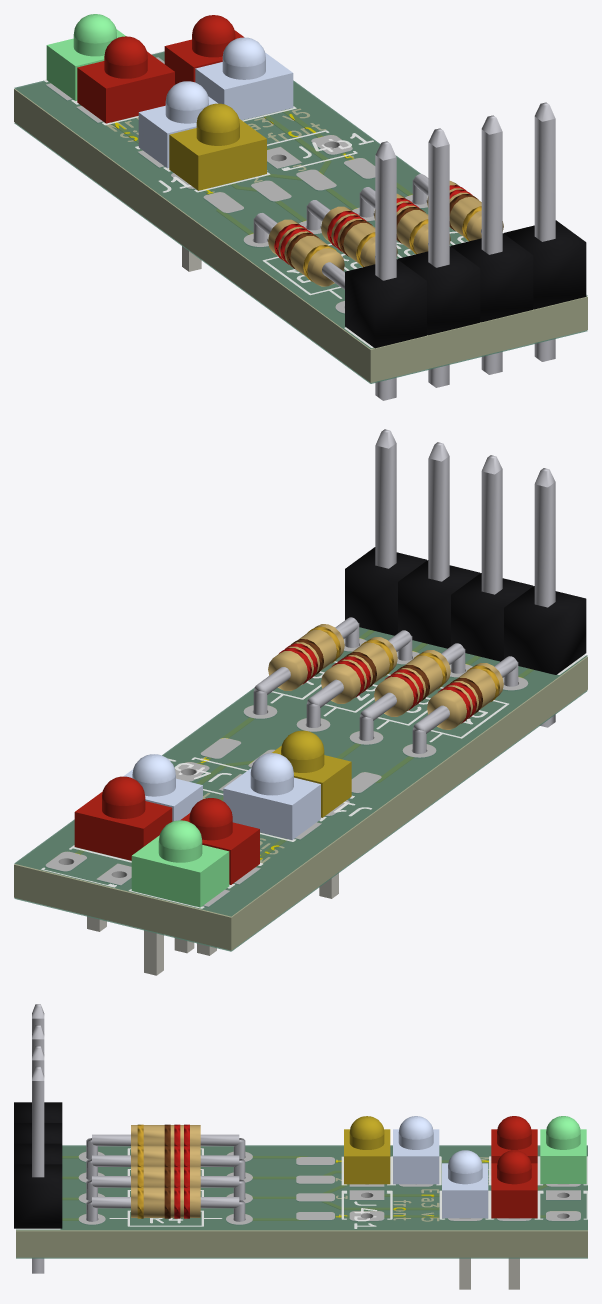
Rendered from MrJ-DB-Era3-breadboard-exit-test-w4.glb.
3 renders of one model, top to bottom at view 1: azimuth 30°, elevation 25°; view 2: azimuth 150°, elevation 25°; view 3: azimuth 270°, elevation 25°, orthographic. The views are drawn at different scales.
Visible parts, largest first — view 1: =>[0:1:1:19], =>[0:1:1:3] (×4), =>[0:1:1:17], =>[0:1:1:5] (×4), =>[0:1:1:13] (×2), =>[0:1:1:7] (×2), =>[0:1:1:11], =>[0:1:1:15], =>[0:1:1:9], =>[0:1:1:16], =>[0:1:1:14], =>[0:1:1:18]; view 2: =>[0:1:1:19], =>[0:1:1:3] (×4), =>[0:1:1:17], =>[0:1:1:5] (×4), =>[0:1:1:7] (×2), =>[0:1:1:13] (×2), =>[0:1:1:9], =>[0:1:1:15], =>[0:1:1:11], =>[0:1:1:16], =>[0:1:1:14], =>[0:1:1:18]; view 3: =>[0:1:1:19], =>[0:1:1:17], =>[0:1:1:5] (×4), =>[0:1:1:3] (×4), =>[0:1:1:13] (×2), =>[0:1:1:7] (×2), =>[0:1:1:15], =>[0:1:1:11], =>[0:1:1:9], =>[0:1:1:16], =>[0:1:1:18], =>[0:1:1:14].
Boxes of the visible parts, x1,y1,x2,y2 form: =>[0:1:1:19]: (14, 53, 587, 382); =>[0:1:1:3] (×4): (345, 102, 586, 400); =>[0:1:1:17]: (14, 51, 587, 348); =>[0:1:1:5] (×4): (253, 174, 503, 289); =>[0:1:1:13] (×2): (138, 37, 293, 168); =>[0:1:1:7] (×2): (77, 15, 243, 123); =>[0:1:1:11]: (169, 103, 266, 271); =>[0:1:1:15]: (46, 57, 427, 313); =>[0:1:1:9]: (46, 14, 125, 100); =>[0:1:1:16]: (43, 50, 586, 347); =>[0:1:1:14]: (112, 111, 412, 234); =>[0:1:1:18]: (14, 123, 587, 383); =>[0:1:1:19]: (14, 628, 587, 950); =>[0:1:1:3] (×4): (345, 429, 586, 727); =>[0:1:1:17]: (14, 627, 587, 916); =>[0:1:1:5] (×4): (253, 617, 518, 753); =>[0:1:1:7] (×2): (74, 776, 259, 953); =>[0:1:1:13] (×2): (123, 753, 320, 839); =>[0:1:1:9]: (131, 820, 229, 975); =>[0:1:1:15]: (45, 638, 528, 906); =>[0:1:1:11]: (272, 730, 351, 898); =>[0:1:1:16]: (41, 654, 586, 908); =>[0:1:1:14]: (75, 630, 532, 860); =>[0:1:1:18]: (14, 690, 587, 951); =>[0:1:1:19]: (16, 1147, 587, 1257); =>[0:1:1:17]: (16, 1145, 587, 1230); =>[0:1:1:5] (×4): (86, 1124, 245, 1221); =>[0:1:1:3] (×4): (14, 1004, 62, 1273); =>[0:1:1:13] (×2): (393, 1116, 488, 1289); =>[0:1:1:7] (×2): (491, 1116, 537, 1289); =>[0:1:1:15]: (78, 1152, 580, 1224); =>[0:1:1:11]: (344, 1116, 390, 1184); =>[0:1:1:9]: (540, 1116, 586, 1184); =>[0:1:1:16]: (16, 1148, 587, 1229); =>[0:1:1:18]: (16, 1257, 587, 1258); =>[0:1:1:14]: (63, 1156, 546, 1220).
Bounding box in the file's own units: 0.0104 × 0.0127 × 0.0297.
